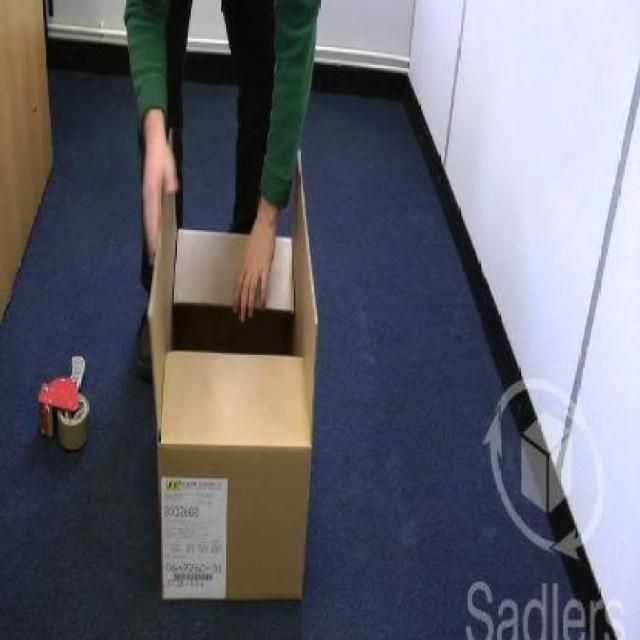box: (138, 127, 342, 625)
